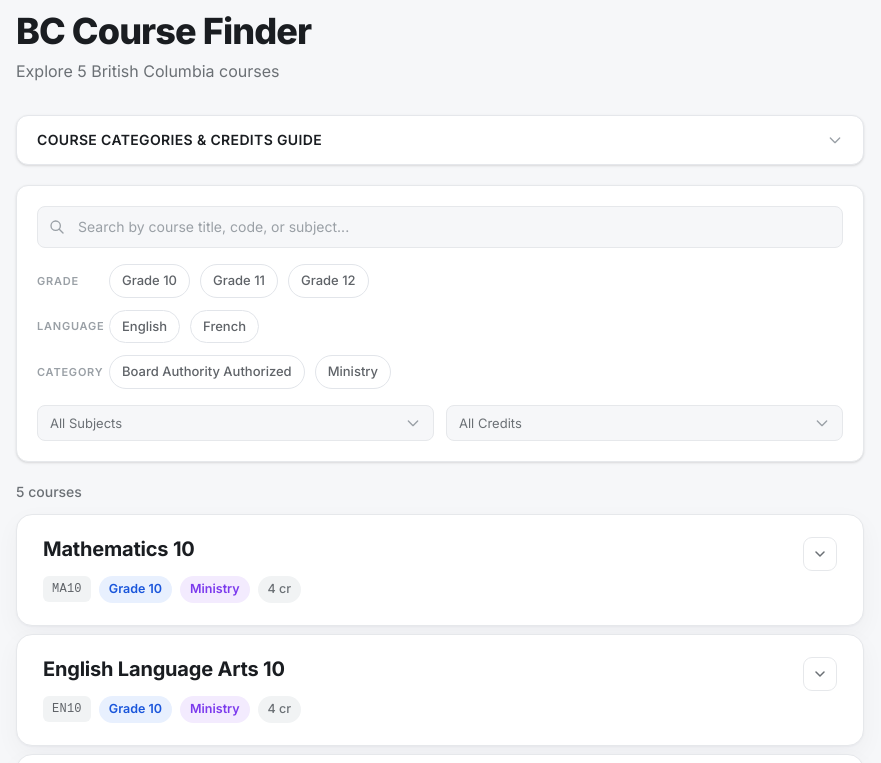
Scenario: Home page — filtering › filters by category chip
The image size is (881, 763).
Check: the text "Mathematics 10" is shown, box x1=43 y1=537 x2=195 y2=561
What coordinates should you click on to do the following:
click the button "Board Authority Authorized"
I would click on:
 (207, 372)
Its box is x1=109 y1=355 x2=305 y2=388.
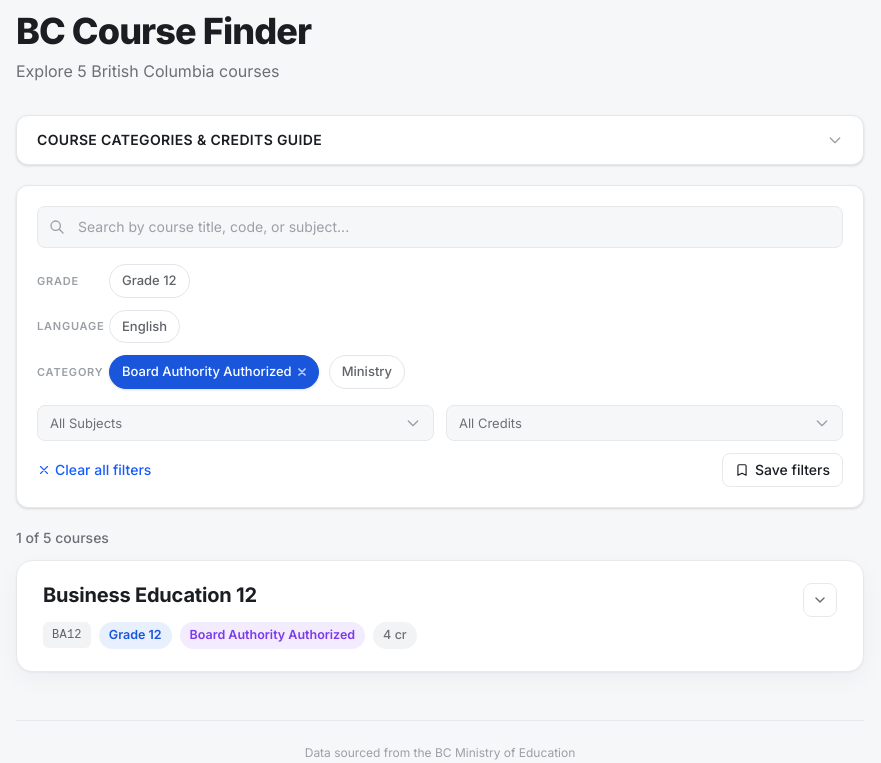
Check: the text "Business Education 12" is shown, box x1=43 y1=583 x2=257 y2=607
Check: the text "Mathematics 10" is gone
Check: the text "1 of 5 courses" is shown, box x1=16 y1=529 x2=109 y2=546
